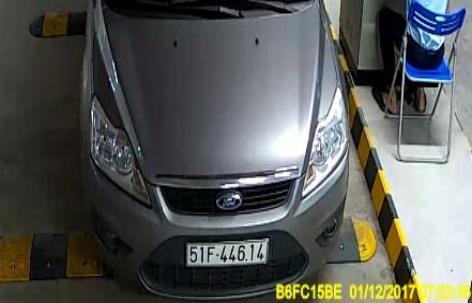plate: (182, 234, 270, 268)
